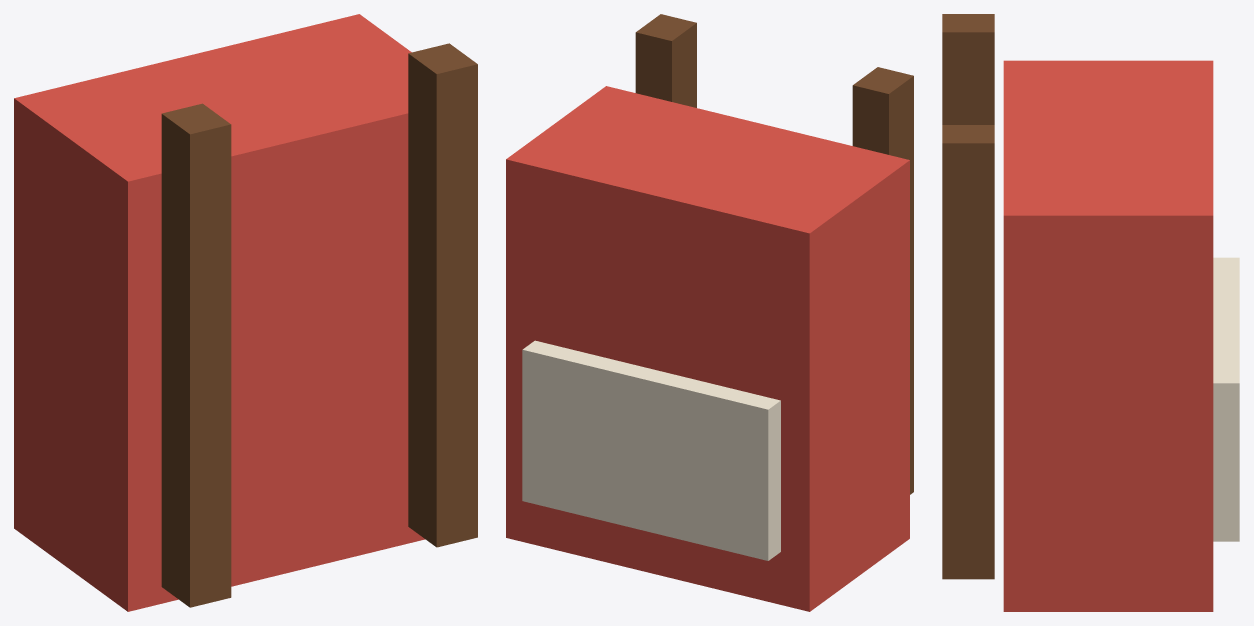
Rendered from backpack.glb.
3 views of the same model, side by side, from view 1: azimuth 30°, elevation 25°; view 2: azimuth 150°, elevation 25°; view 3: azimuth 270°, elevation 25° (orthographic). The views are drawn at different scales.
Visible parts, largest first — view 1: backpack; view 2: backpack; view 3: backpack.
Boxes of the visible parts, left/top/right/bottom form: backpack: left=14, top=14, right=477, bottom=611; backpack: left=506, top=14, right=913, bottom=611; backpack: left=942, top=14, right=1239, bottom=611.
Size of the model in its own units: 0.42 by 0.575 by 0.34.
